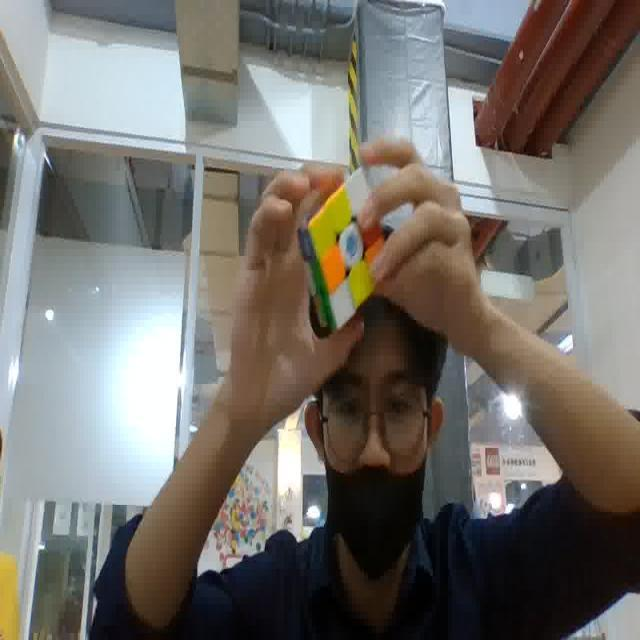Rub: (304, 166, 389, 332)
